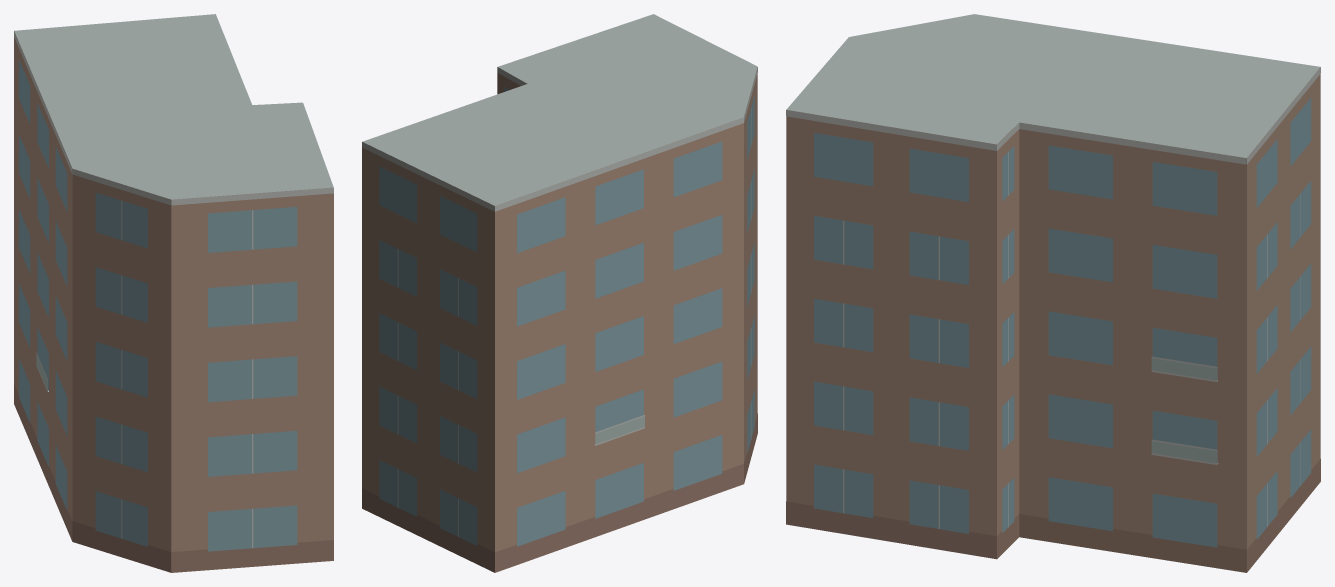
Rendered from survey-upis-32930867.glb.
3 views of the same model, side by side, from view 1: azimuth 30°, elevation 25°; view 2: azimuth 150°, elevation 25°; view 3: azimuth 270°, elevation 25° (orthographic). The views are drawn at different scales.
Visible parts, largest first — view 1: survey-upis-32930867.tmp; view 2: survey-upis-32930867.tmp; view 3: survey-upis-32930867.tmp.
Part boxes in pixels (left/top/right/bottom): survey-upis-32930867.tmp: left=14, top=14, right=333, bottom=572; survey-upis-32930867.tmp: left=362, top=14, right=757, bottom=572; survey-upis-32930867.tmp: left=786, top=14, right=1320, bottom=572.
Bounding box in the file's own units: 11.57 × 15.5 × 18.12.
